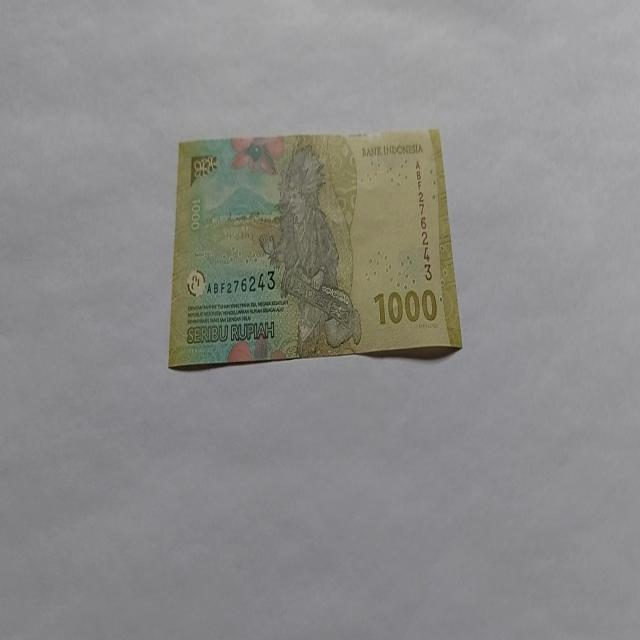seribu rupiah kertas: (167, 126, 463, 370)
